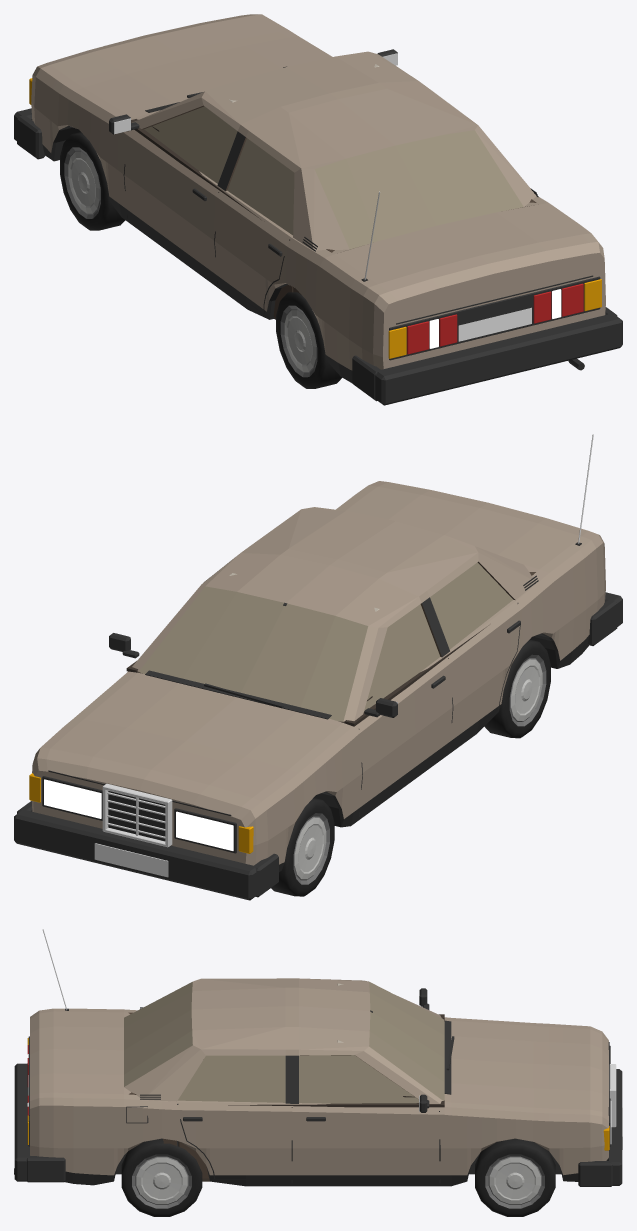
File: Car.fbx
3 renders of one model, top to bottom at view 1: azimuth 30°, elevation 25°; view 2: azimuth 150°, elevation 25°; view 3: azimuth 270°, elevation 25°, orthographic. The views are drawn at different scales.
Parts seen in each view (by area): view 1: Body, Glass, Door_FL, Wheel_RL, Wheel_FL, Interior; view 2: Body, Glass, Door_FL, Wheel_RL, Wheel_FL, Interior; view 3: Body, Glass, Wheel_FR, Wheel_RR, Interior.
Part boxes in pixels (bbox=[...]): Body: bbox=[14, 14, 622, 405]; Glass: bbox=[227, 130, 523, 249]; Door_FL: bbox=[109, 106, 237, 273]; Wheel_RL: bbox=[276, 292, 341, 388]; Wheel_FL: bbox=[60, 132, 125, 230]; Interior: bbox=[131, 64, 536, 319]; Body: bbox=[14, 434, 622, 900]; Glass: bbox=[139, 562, 513, 721]; Door_FL: bbox=[357, 604, 450, 816]; Wheel_RL: bbox=[484, 639, 550, 738]; Wheel_FL: bbox=[271, 798, 334, 896]; Interior: bbox=[126, 572, 535, 726]; Body: bbox=[14, 929, 622, 1186]; Glass: bbox=[124, 981, 444, 1103]; Wheel_FR: bbox=[475, 1138, 555, 1216]; Wheel_RR: bbox=[121, 1138, 202, 1216]; Interior: bbox=[128, 983, 444, 1181].
Size of the model in its own units: 2.04 by 1.67 by 4.6.
